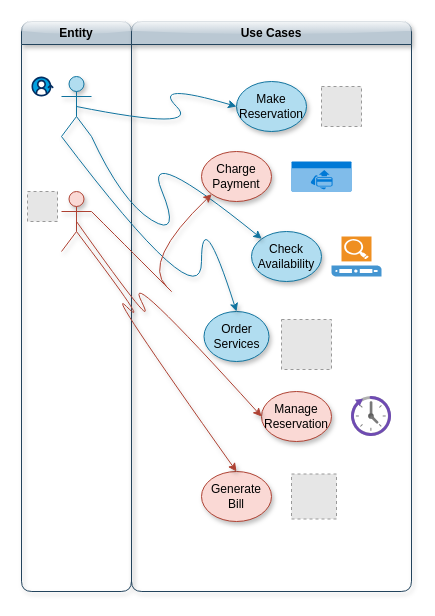
The diagram is 435 pixels wide and 616 high, and some of its shapes have lost their labels. Grey dashed boxes stand in for pictures. Here are the shapes that lost their labels. From the top down, the centre of each, then its label:
At point (77, 108): "Customer".
At point (321, 176): "Payment".
At point (77, 222): "Hotel Staff".
